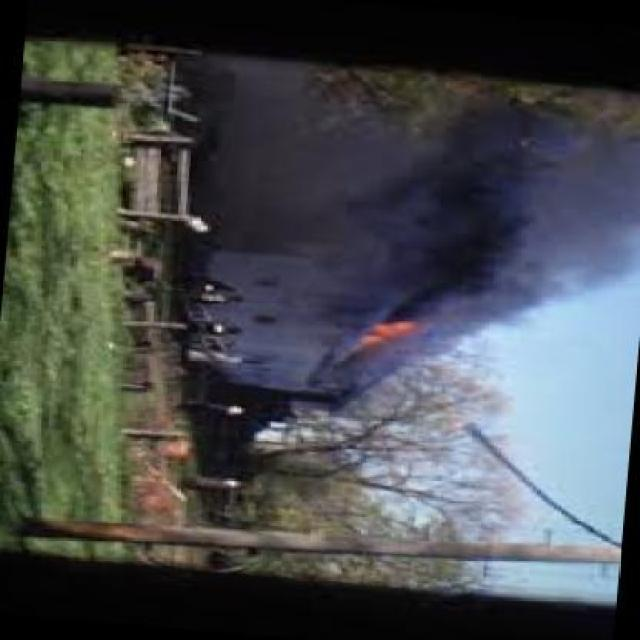Fire: (354, 315, 416, 346)
Smoke: (443, 117, 640, 360), (167, 84, 426, 265)
